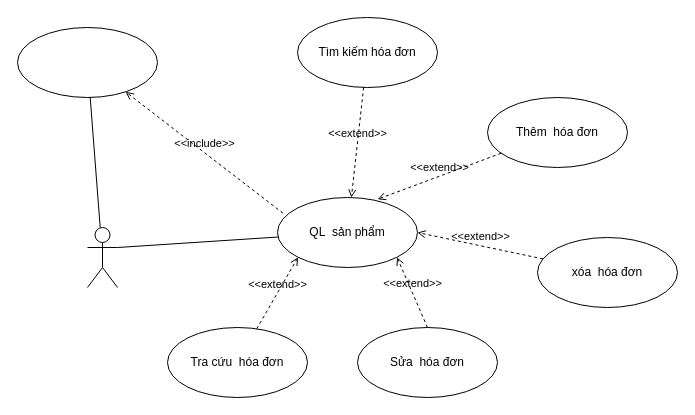
The diagram is 695 pixels wide and 415 high, and some of its shapes have lost their labels. The shapes that lost their labels are listed below. From the top down, each one's box as (x1, y1, x2, y2) in pixels, then its label:
(16, 26, 158, 98): Đăng nhập
(86, 226, 118, 288): Nhân viên QL
